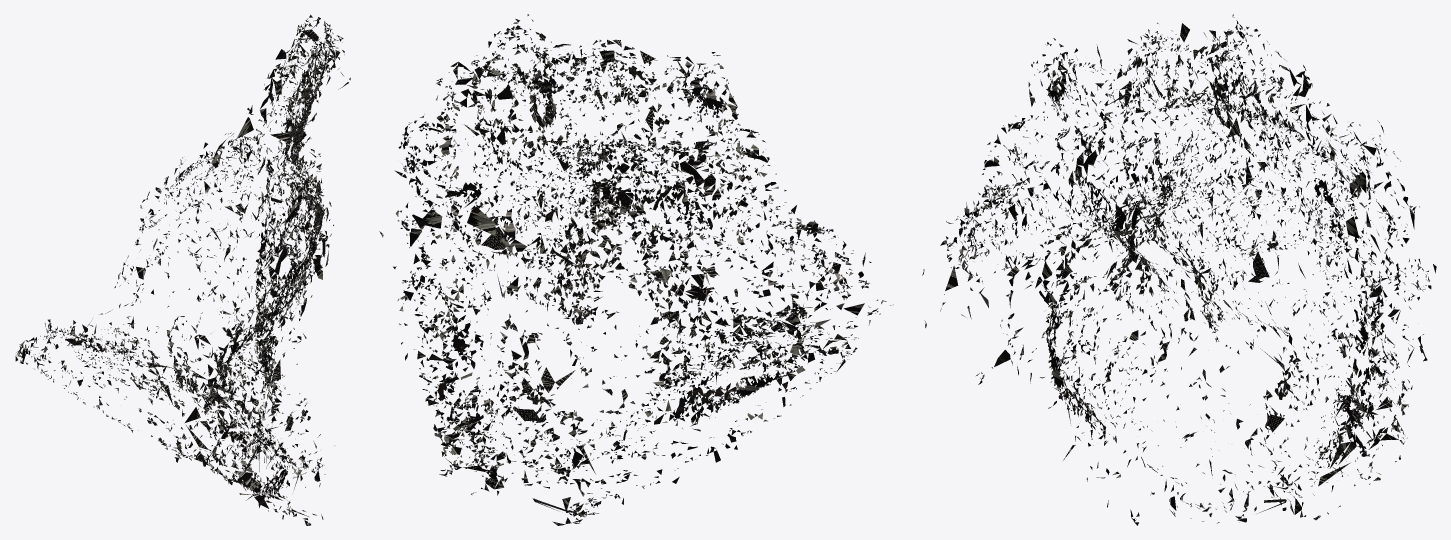
3 views of the same model, side by side, from view 1: azimuth 30°, elevation 25°; view 2: azimuth 150°, elevation 25°; view 3: azimuth 270°, elevation 25° (orthographic). The views are drawn at different scales.
Visible parts, largest first — view 1: test6; view 2: test6; view 3: test6.
Part boxes in pixels (x1,y1,x2,y2): test6: [15, 14, 350, 525]; test6: [379, 14, 893, 525]; test6: [922, 14, 1436, 525].
Size of the model in its own units: 1.18 by 1.49 by 1.29.
1 material, 1 textured.
